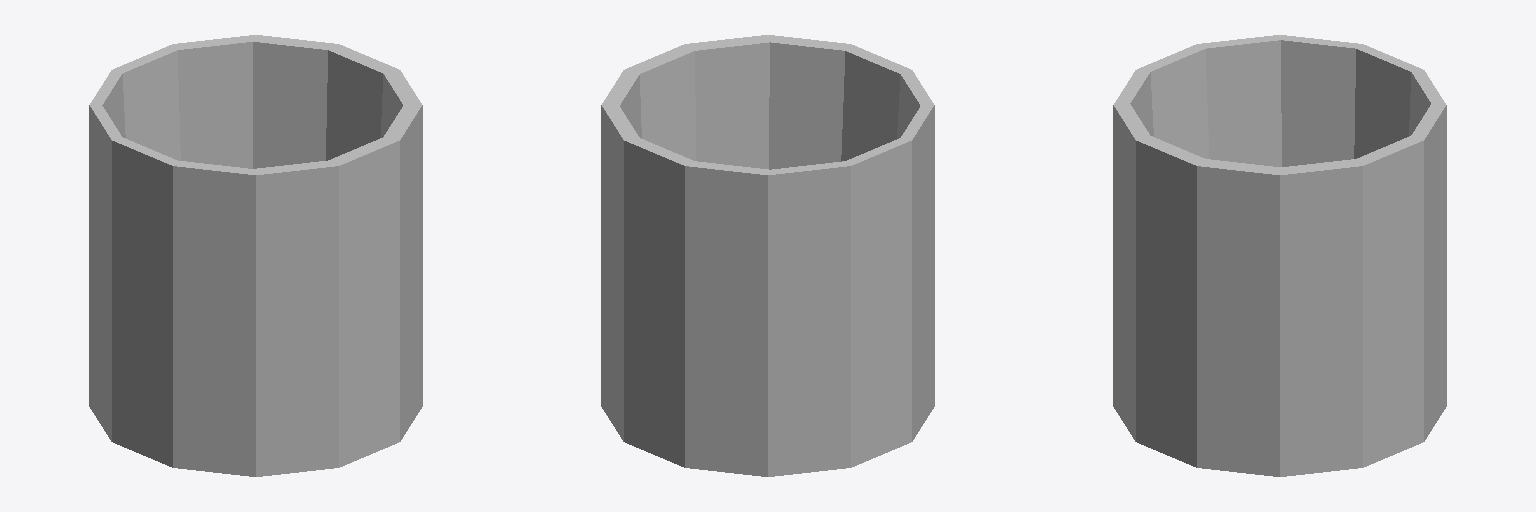
File: Trashcan.obj
3 views of the same model, side by side, from view 1: azimuth 30°, elevation 25°; view 2: azimuth 150°, elevation 25°; view 3: azimuth 270°, elevation 25° (orthographic).
Visible parts, largest first — view 1: Trashcan; view 2: Trashcan; view 3: Trashcan.
Boxes of the visible parts, <box> form: Trashcan: <box>89,35,422,476</box>; Trashcan: <box>601,35,934,476</box>; Trashcan: <box>1113,35,1446,476</box>.
Size of the model in its own units: 1.2 by 1.2 by 1.2.